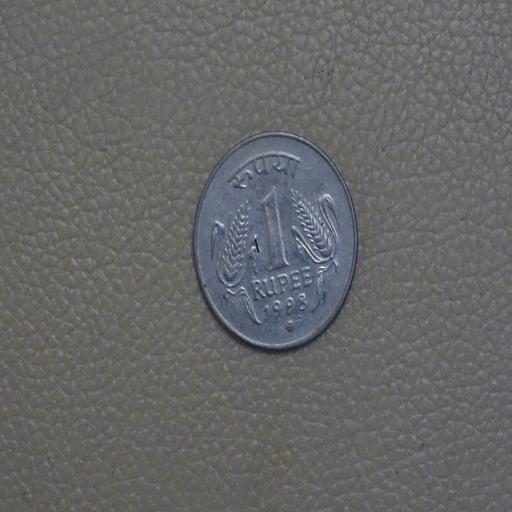rupee1: (192, 134, 357, 347)
